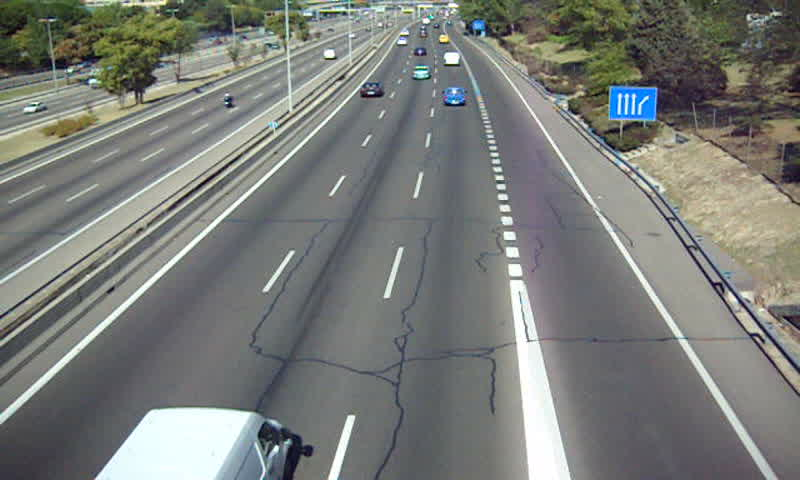car: (443, 87, 468, 106), (358, 82, 384, 99), (410, 65, 430, 80)
van: (442, 52, 461, 67)
